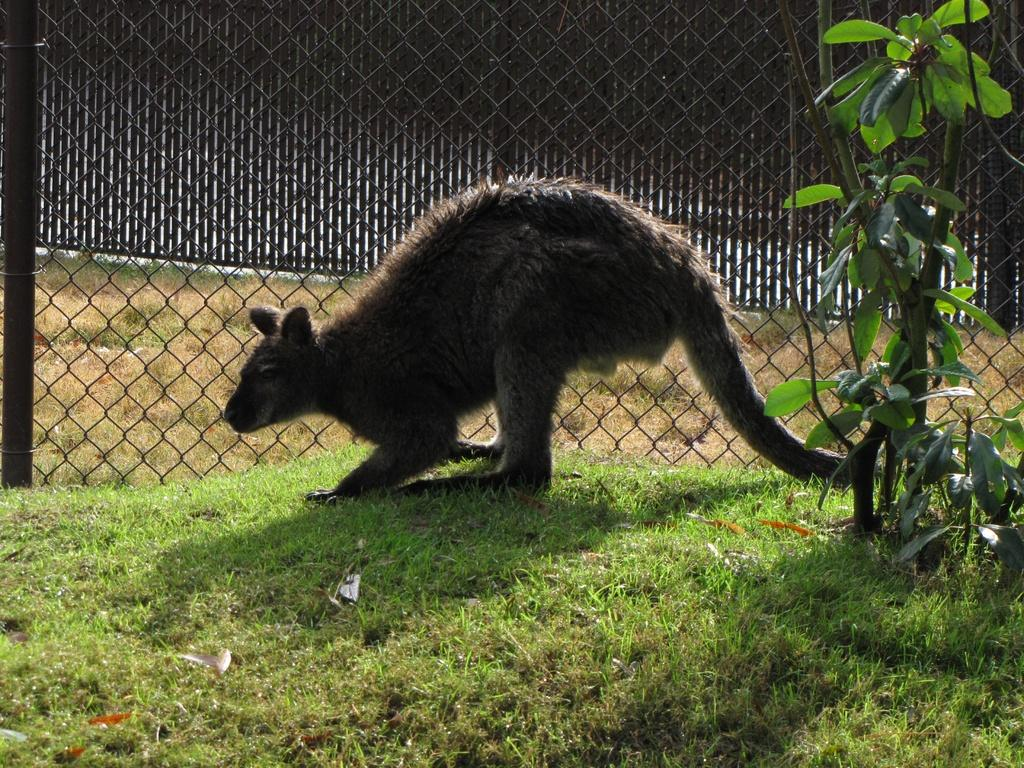kangaroo: (220, 170, 920, 490)
